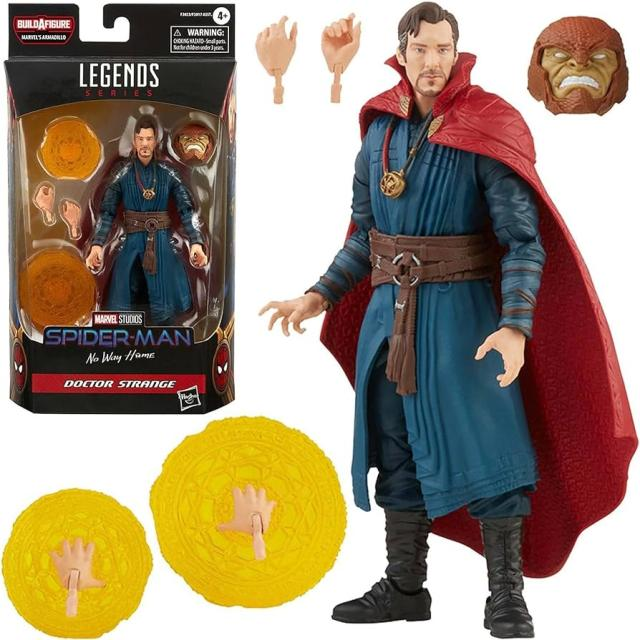doctor_strange: (342, 8, 608, 570), (96, 117, 211, 333)
